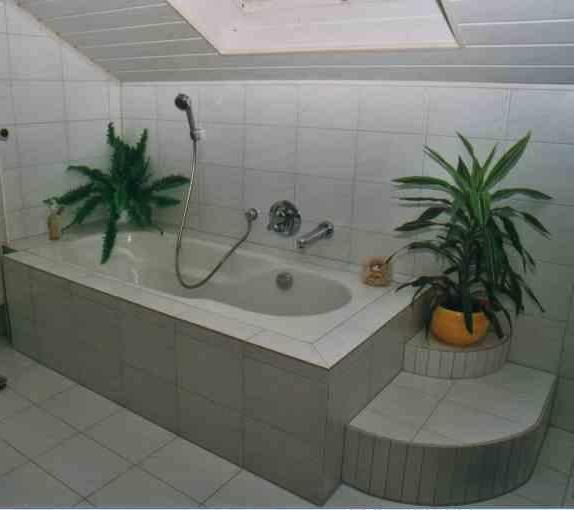Escaleras: (356, 336, 569, 501)
Matera: (396, 150, 541, 341)
